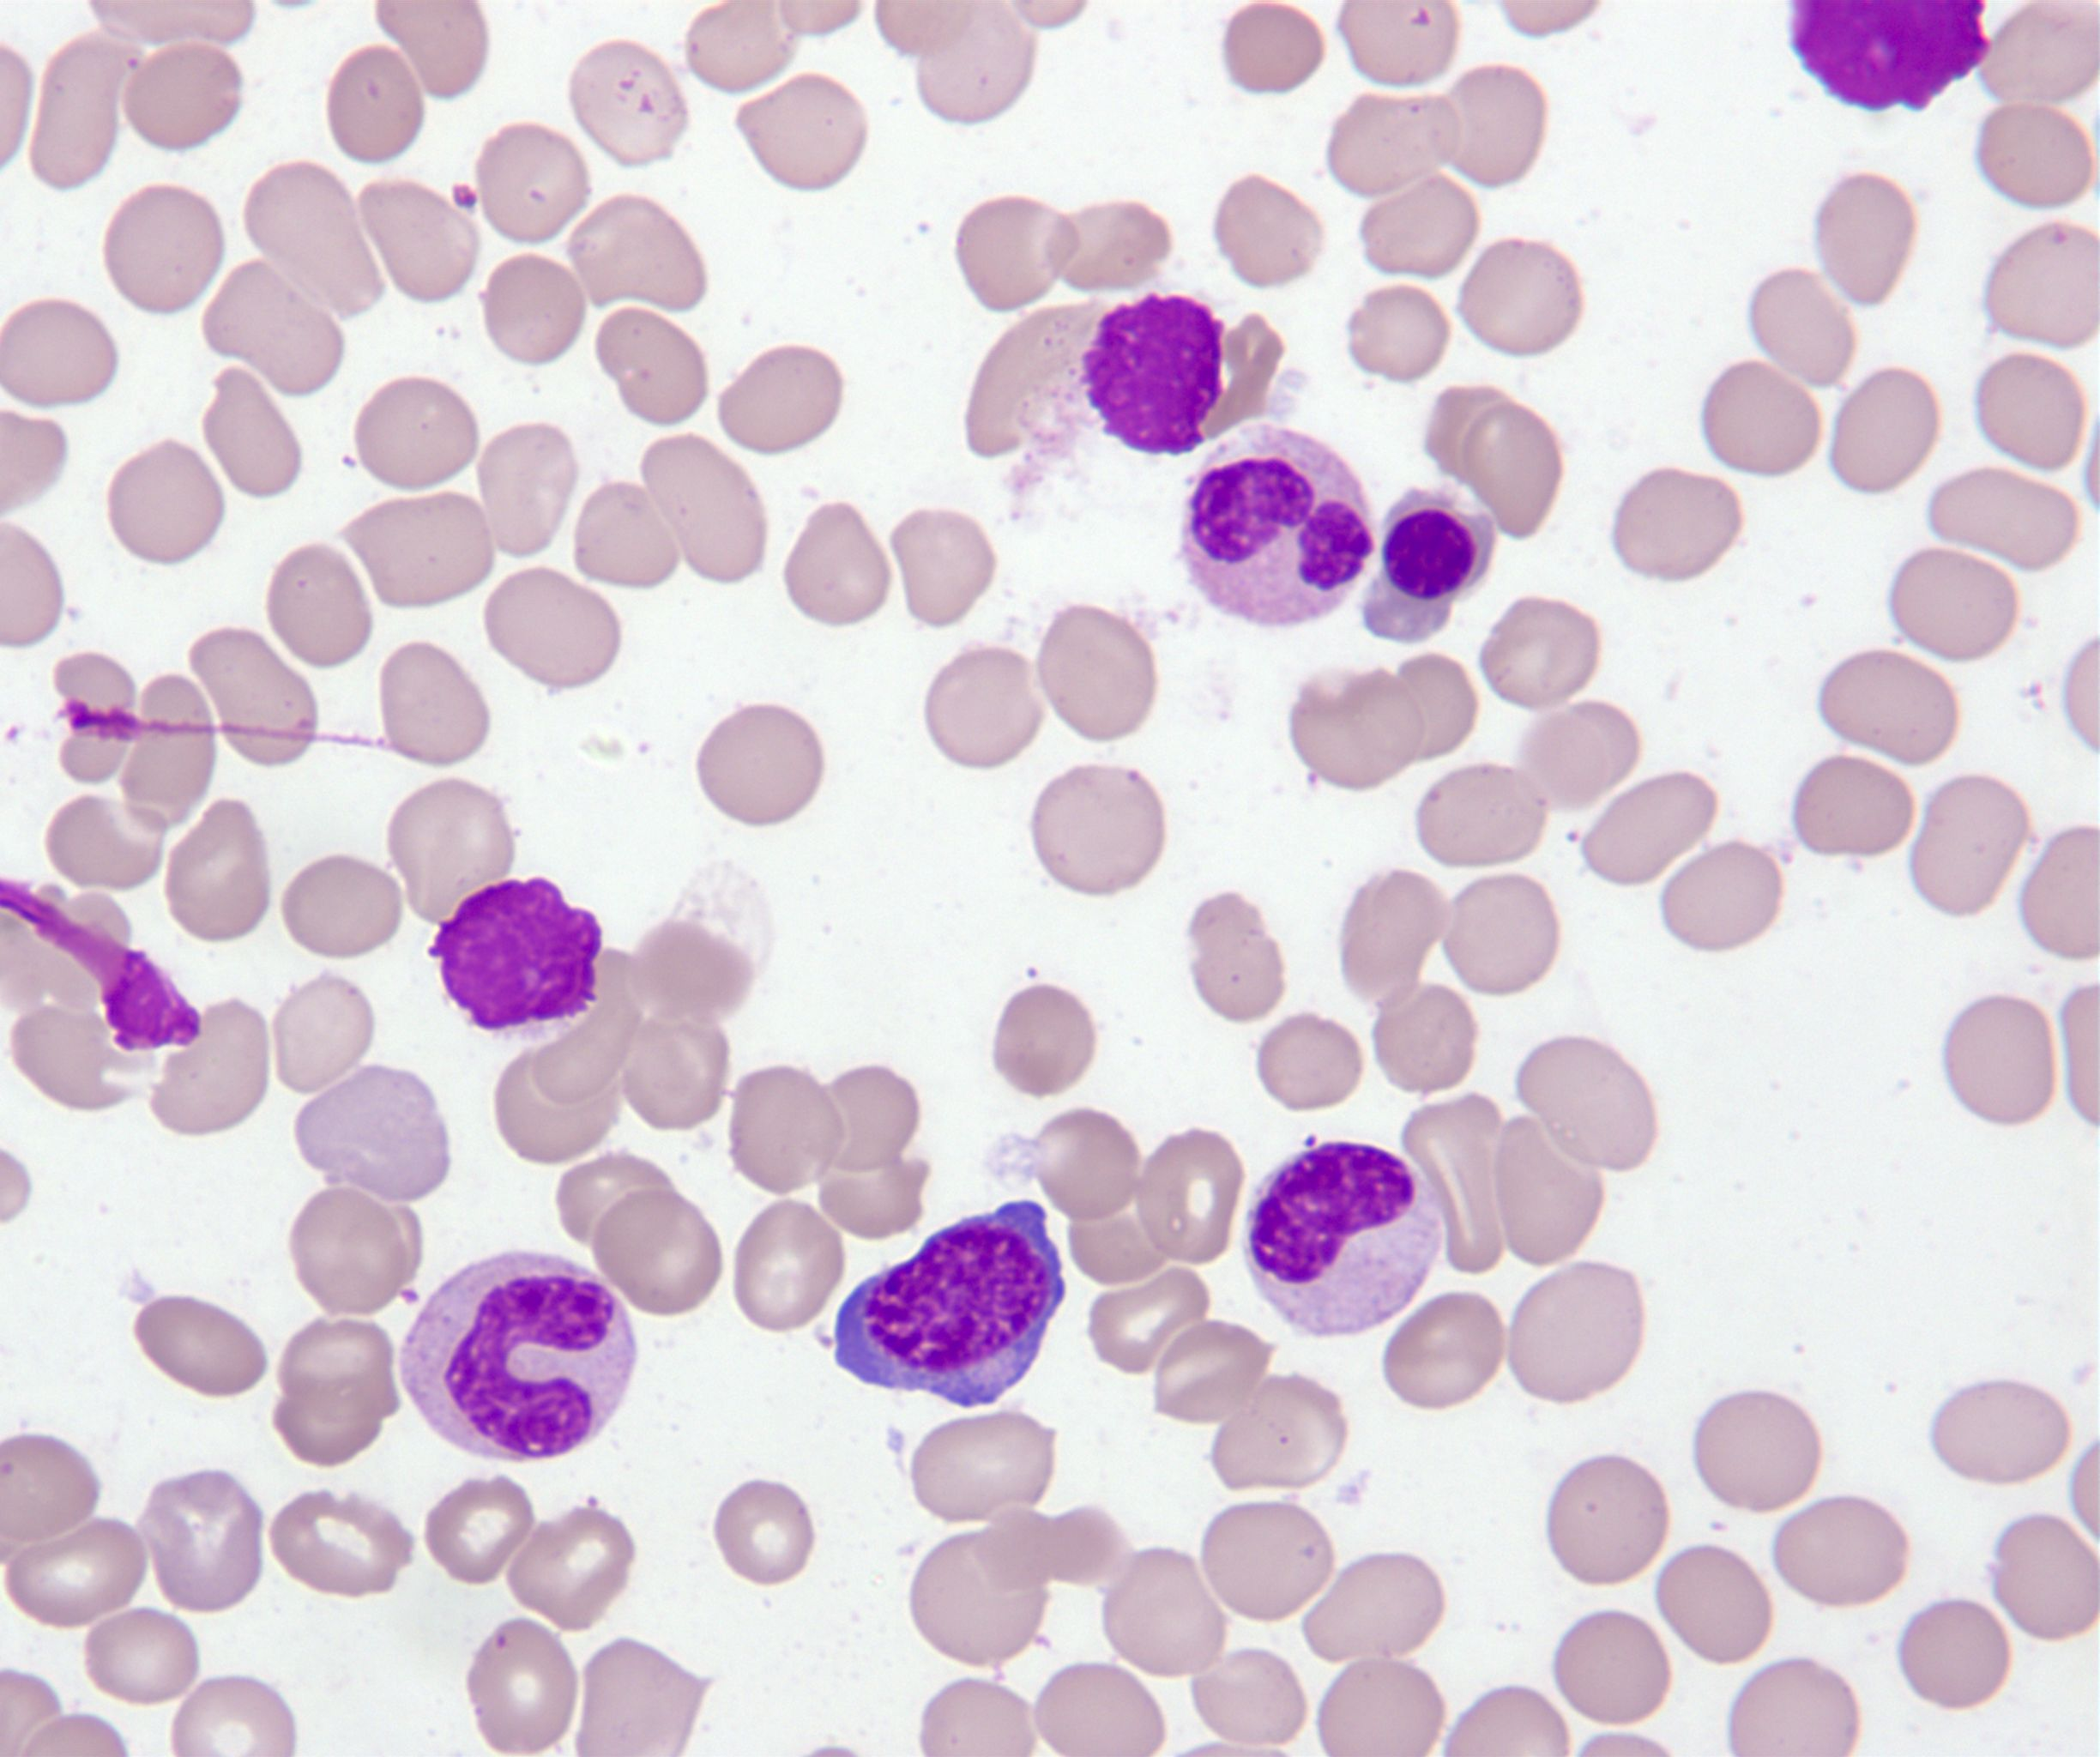23: (835, 1200, 1064, 1408)
24: (1360, 487, 1495, 640)
4: (1240, 1143, 1439, 1333)
5: (398, 1255, 635, 1459)
6: (1183, 422, 1374, 625)
x: (2, 879, 202, 1050), (427, 878, 602, 1031), (1083, 293, 1224, 455), (1788, 0, 1992, 112)
